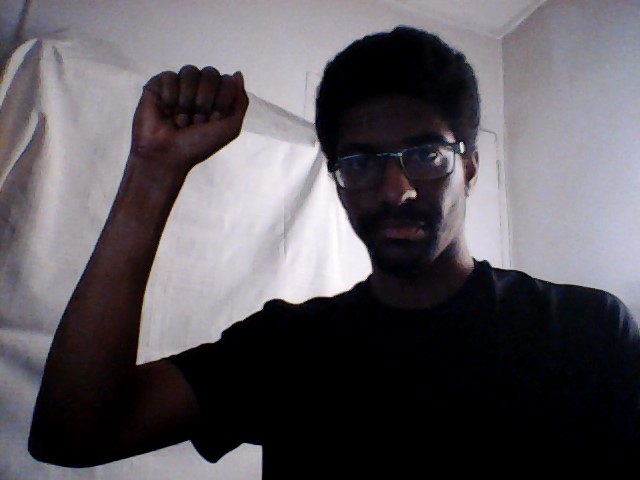a: (129, 63, 253, 170)
